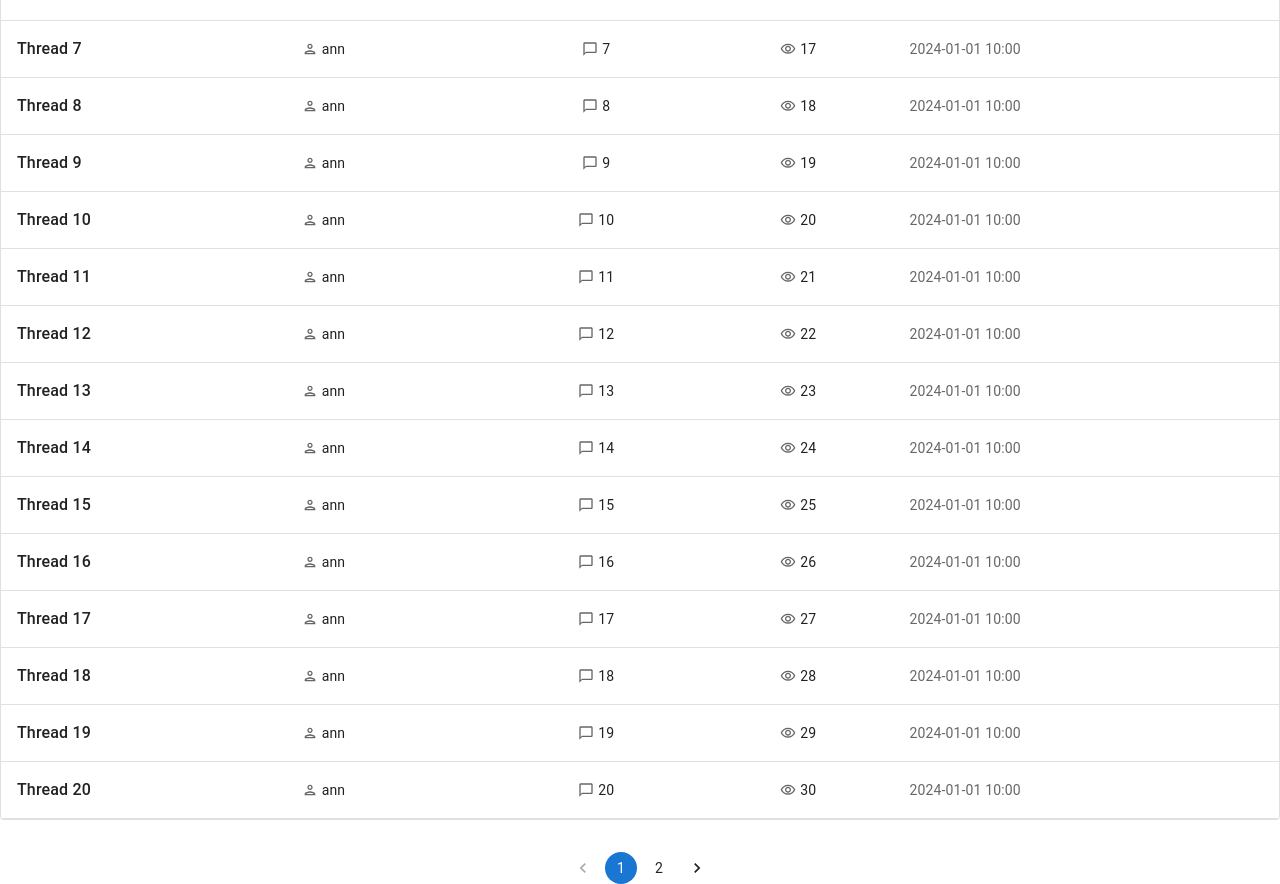
paginates long lists
(page scrolled)
Expected: the row with test id "thread-row-20" is shown, top-left (1, 762), bottom-right (1279, 818)
What coordinates should you click on to do the following:
click the button named "Go to page 2"
I would click on:
 (659, 868)
Its box is top-left (643, 852), bottom-right (675, 883).
(page scrolled)
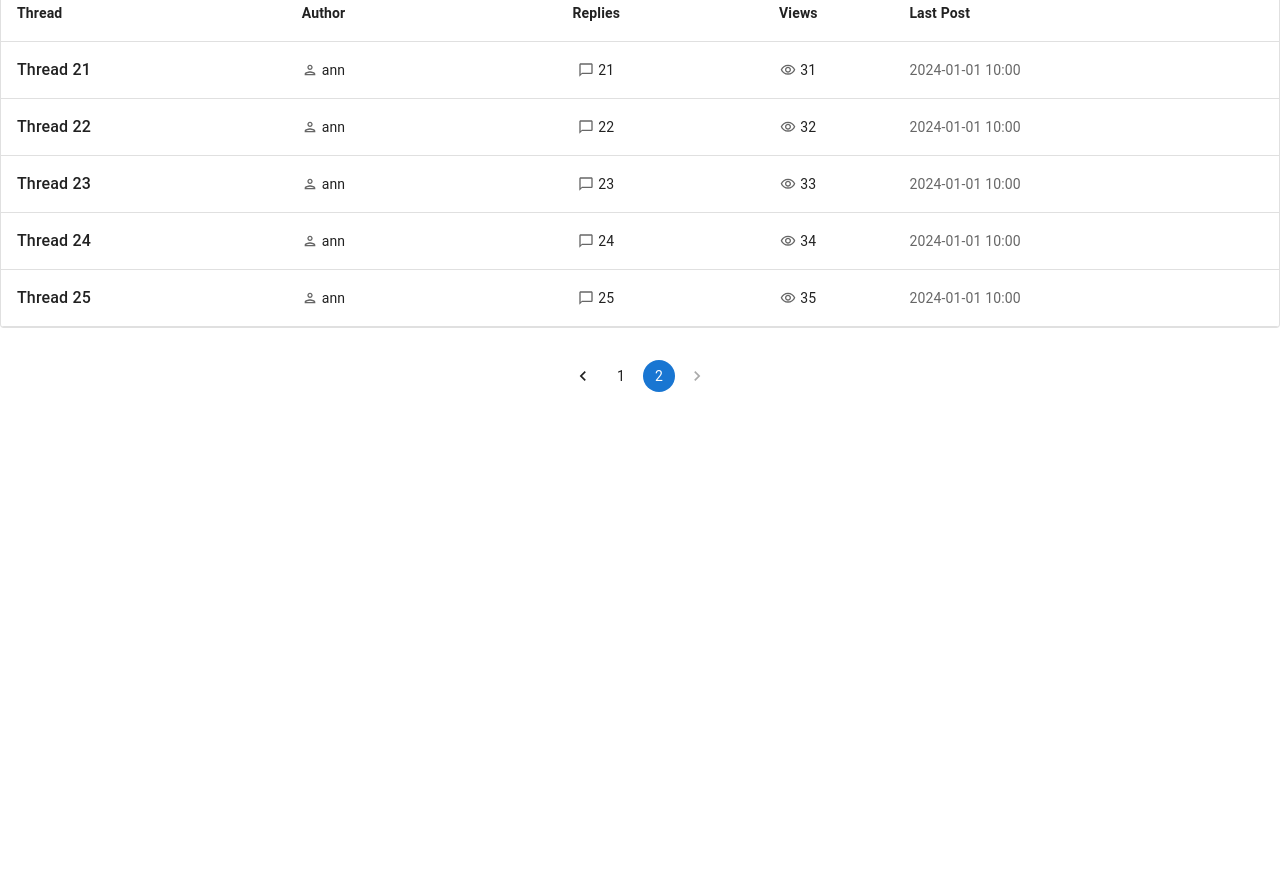
Expected: the row with test id "thread-row-21" is shown, top-left (1, 42), bottom-right (1279, 98)
